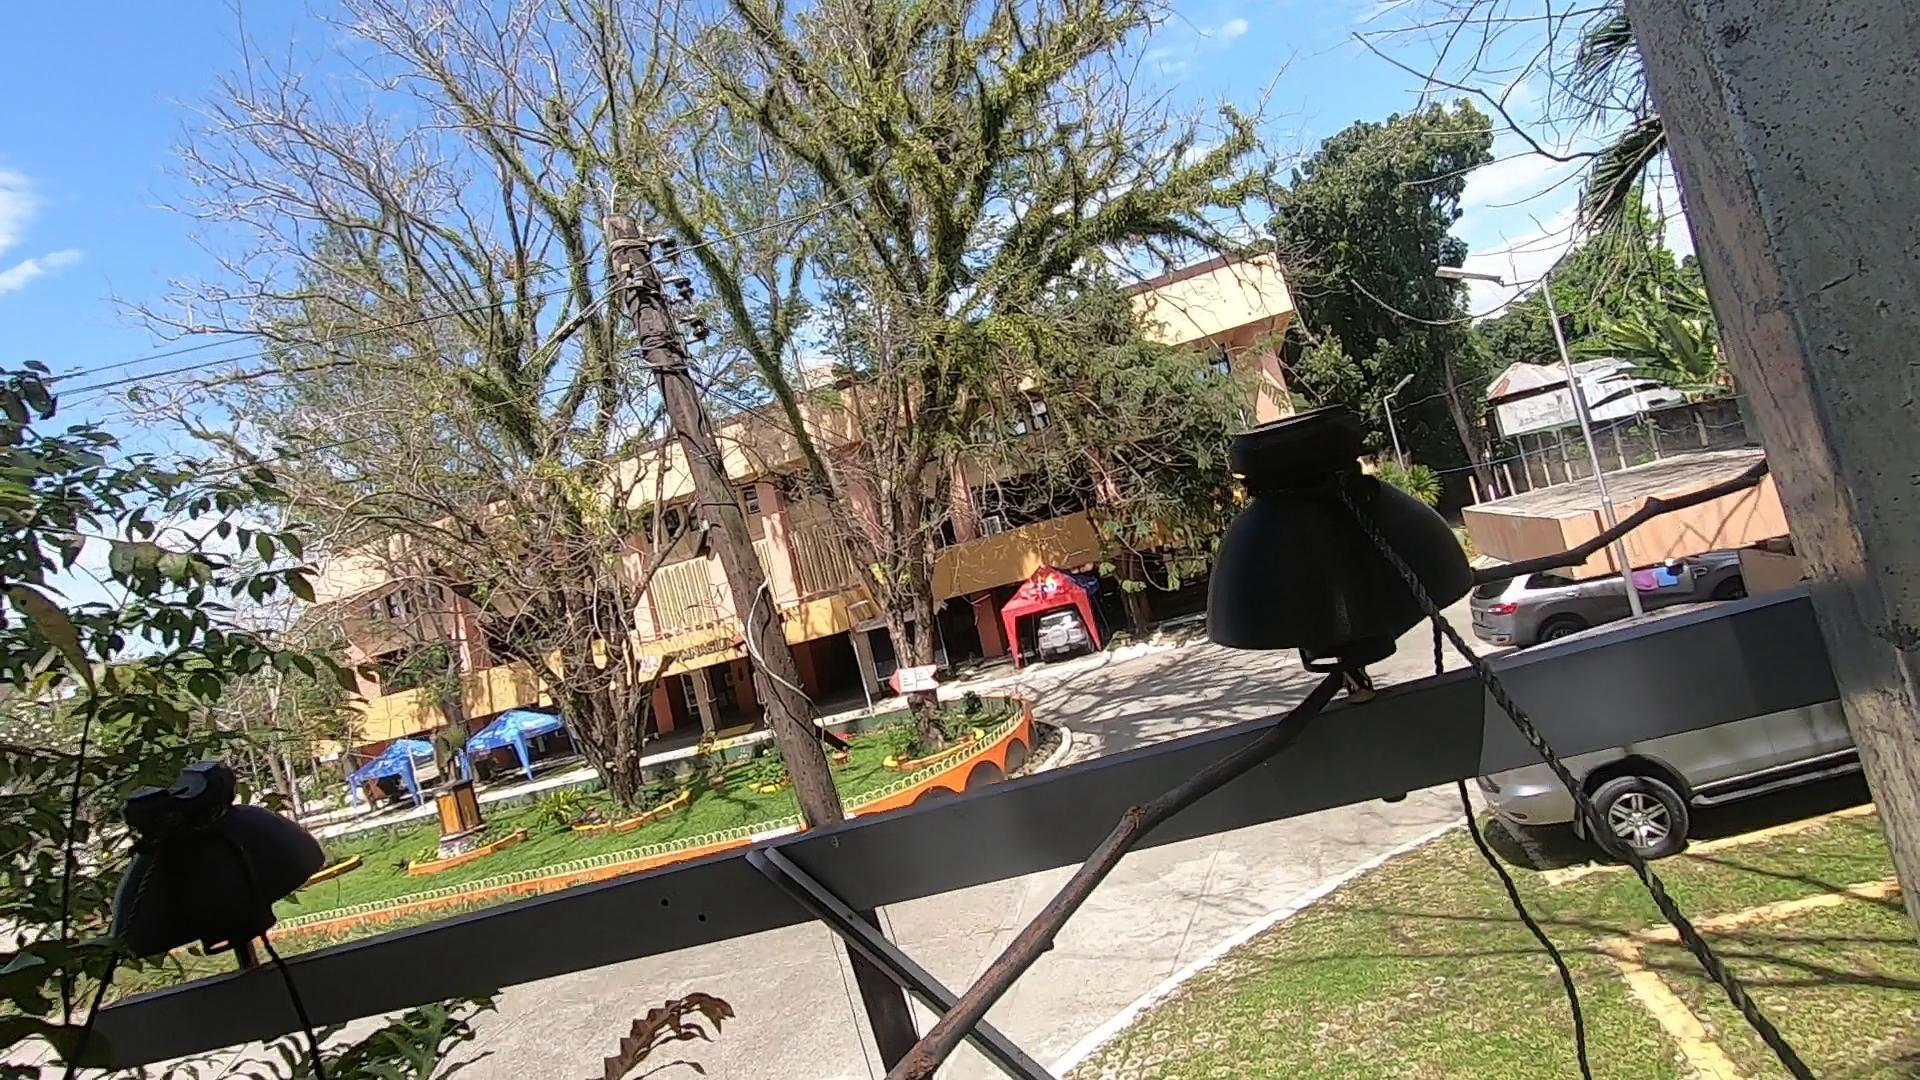tree branch: (729, 483, 1859, 1068)
